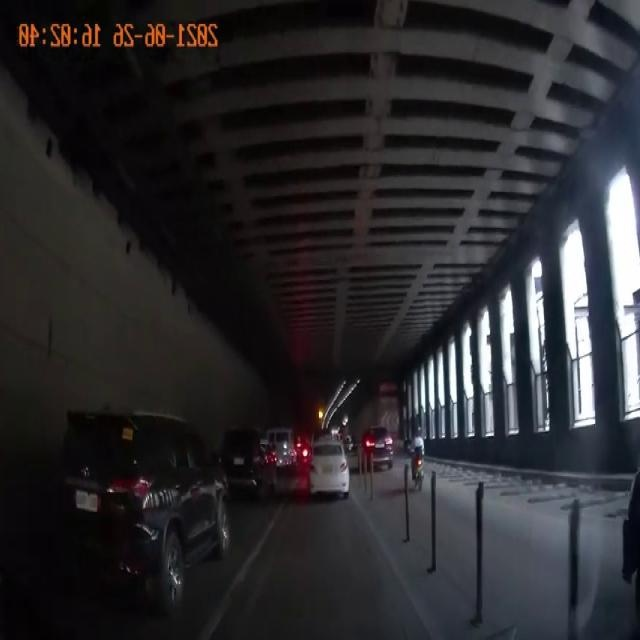car: (57, 402, 233, 618), (214, 423, 277, 503), (299, 443, 349, 517), (362, 420, 399, 468), (269, 423, 296, 462)
motorcycle: (407, 410, 433, 484)
